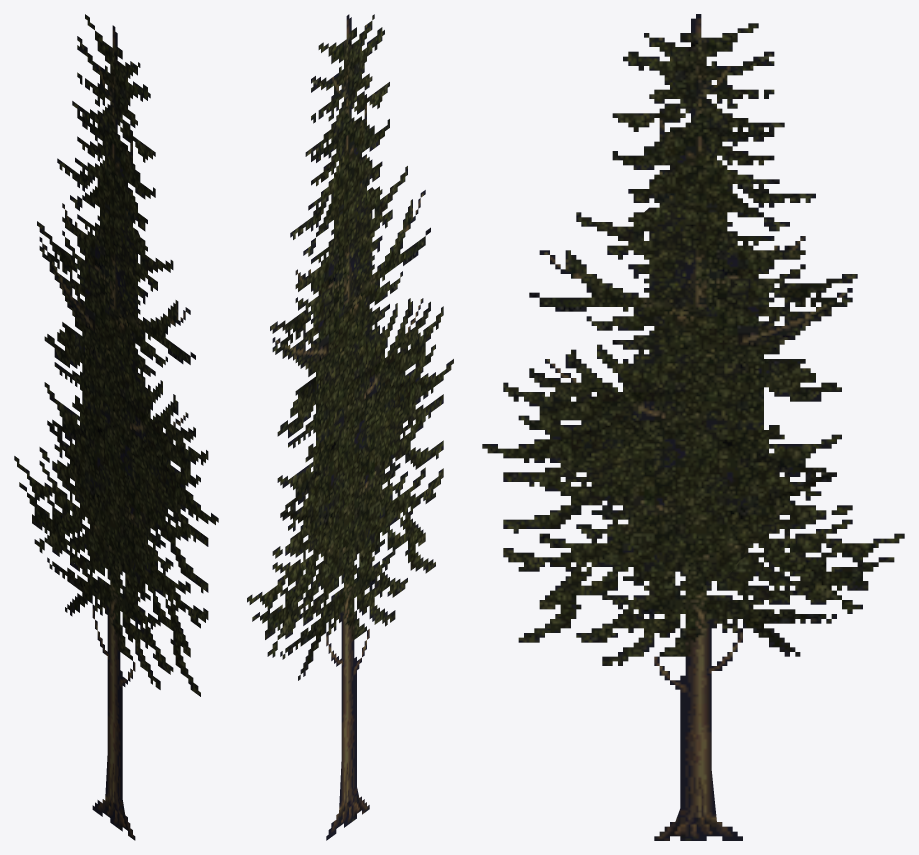
File: ObjMD_Tree_Forest_A.FBX
The picture shows the model from 3 angles, left to right: view 1: azimuth 30°, elevation 25°; view 2: azimuth 150°, elevation 25°; view 3: azimuth 270°, elevation 25°; orthographic projection. The views are drawn at different scales.
Visible parts, largest first — view 1: ObjMD_Tree_Forest_A; view 2: ObjMD_Tree_Forest_A; view 3: ObjMD_Tree_Forest_A.
Part boxes in pixels (box(x1,y1,x2,y2)): ObjMD_Tree_Forest_A: box(14, 14, 218, 840); ObjMD_Tree_Forest_A: box(247, 14, 453, 840); ObjMD_Tree_Forest_A: box(482, 14, 904, 840).
Size of the model in its own units: 0.000107 by 1490 by 690.
